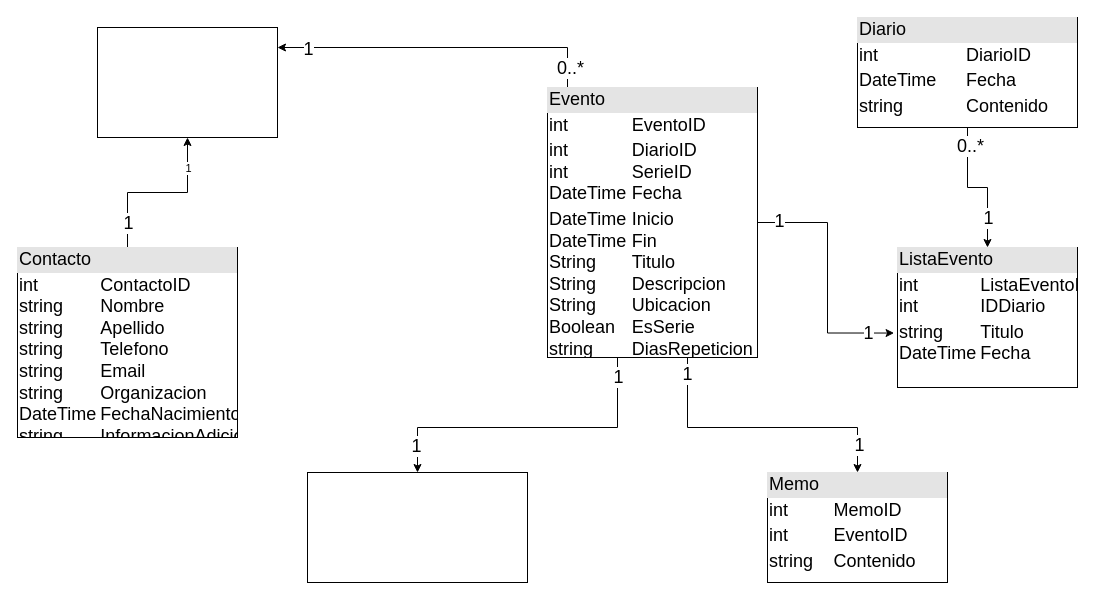
The diagram is 1109 pixels wide and 600 high, and some of its shapes have lost their labels. Each missing label, with the centre of its shape:
ListaContacto int int ListaContactoID IDEvento string NombreApellido: the point at 187,82
Notificacion int NotificacionID int EventoID DateTime Hora: the point at 417,527
